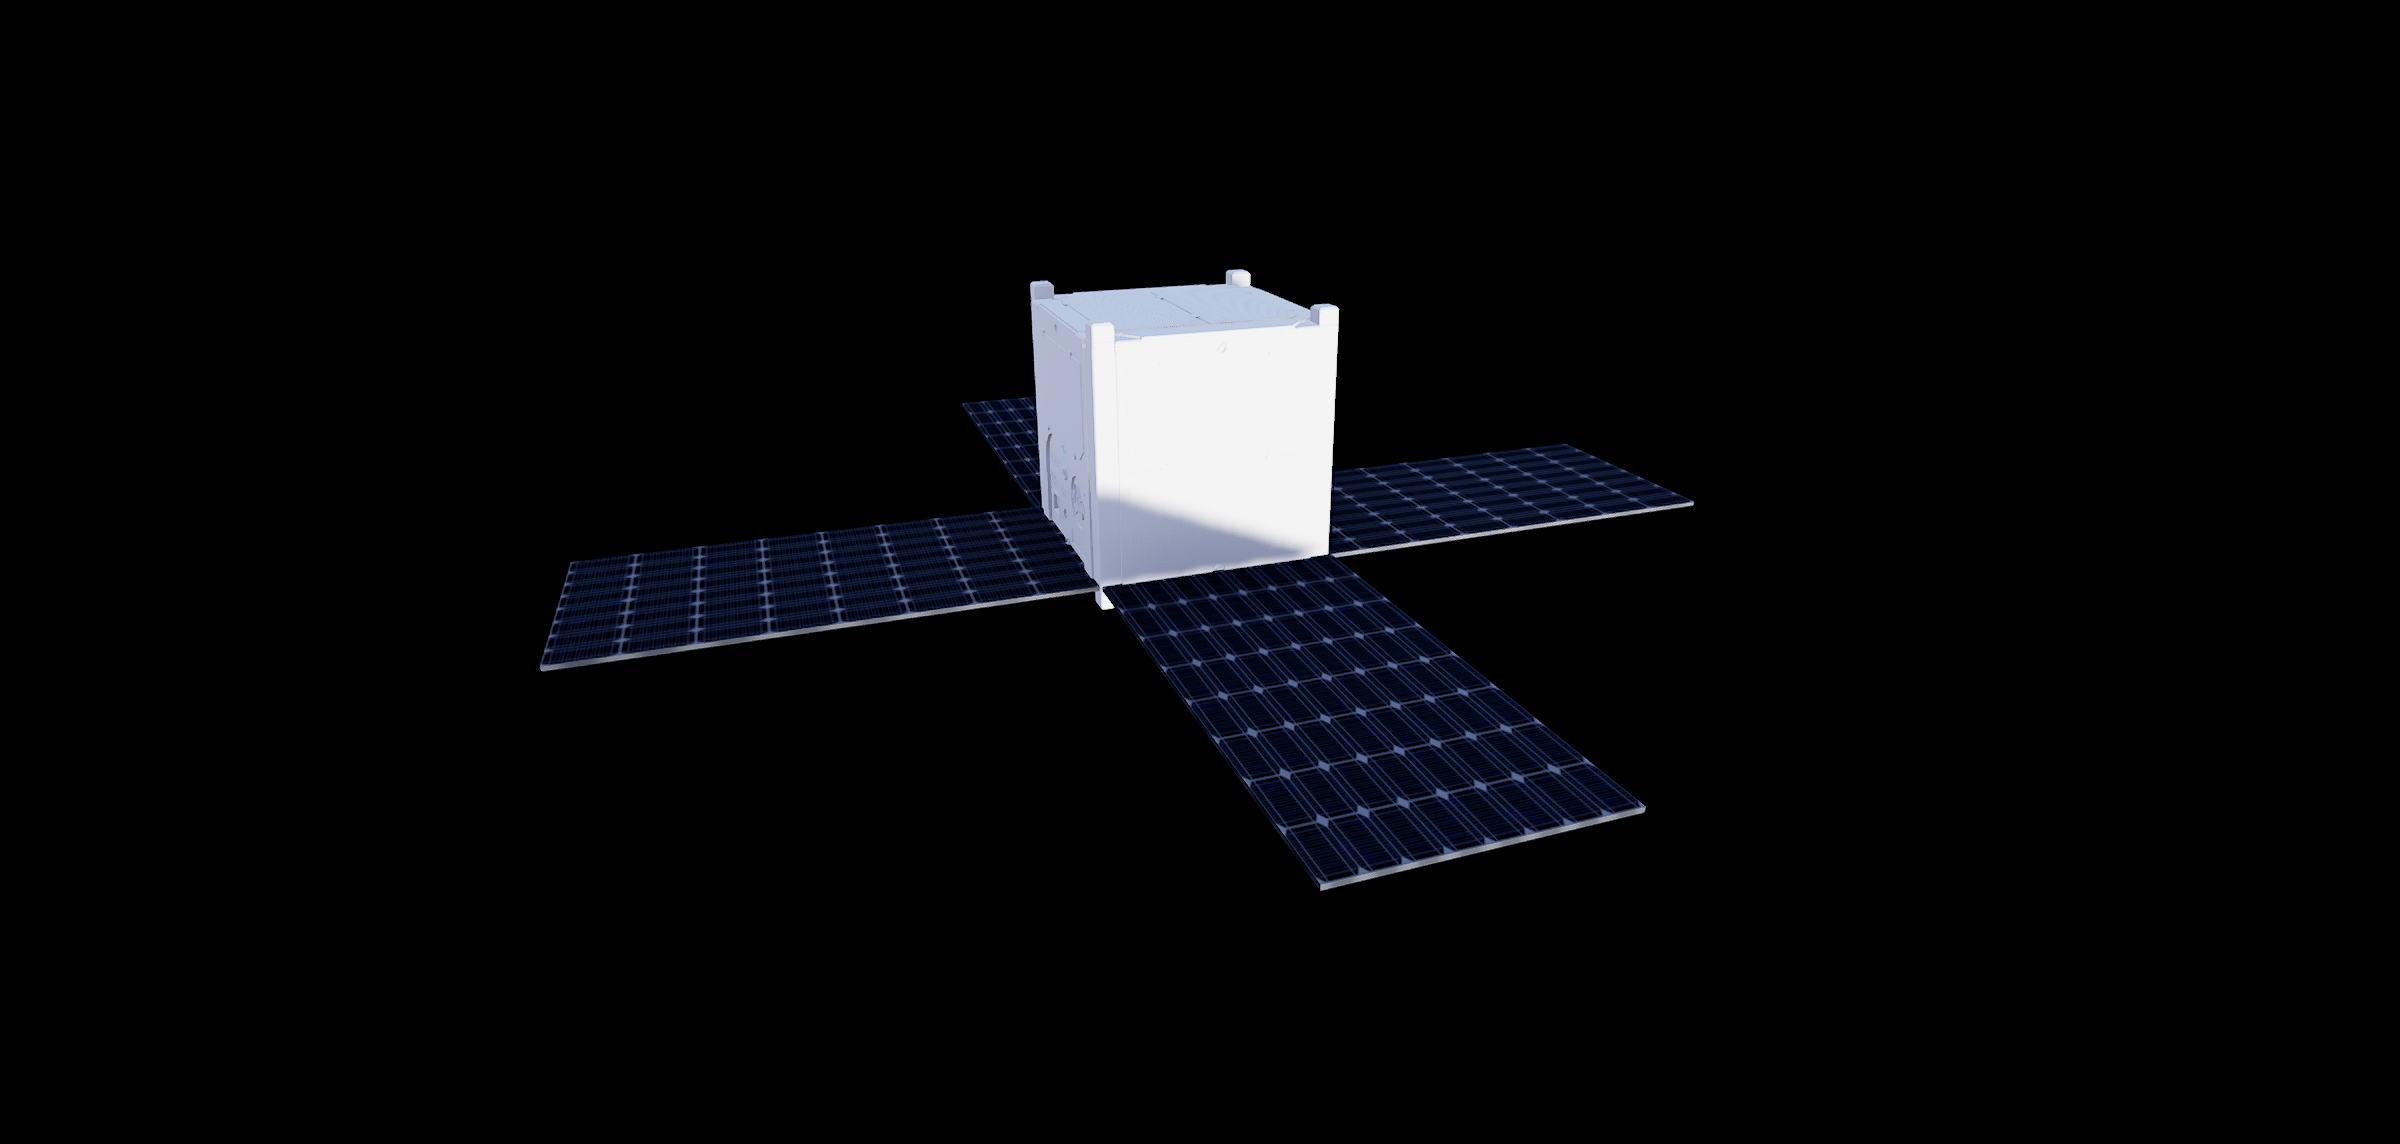satellite: (505, 221, 1753, 920)
